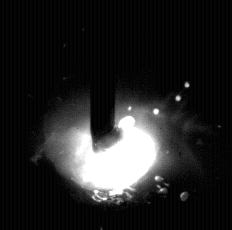arame: (90, 0, 116, 153)
poca: (45, 0, 170, 230)
